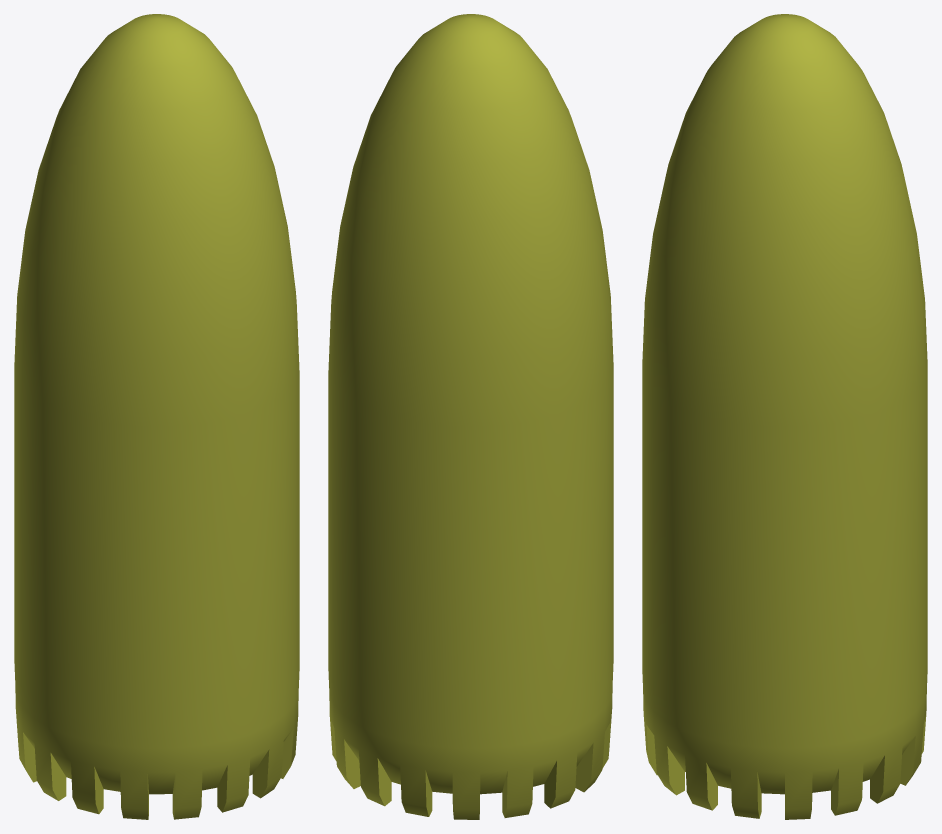
3 renders of one model, left to right at view 1: azimuth 30°, elevation 25°; view 2: azimuth 150°, elevation 25°; view 3: azimuth 270°, elevation 25°, orthographic.
Visible parts, largest first — view 1: Sphere001; view 2: Sphere001; view 3: Sphere001.
Part boxes in pixels (bbox=[...]): Sphere001: bbox=[14, 14, 299, 819]; Sphere001: bbox=[328, 14, 613, 819]; Sphere001: bbox=[642, 14, 927, 819].
Bounding box in the file's own units: 47.42 × 137 × 47.42.
